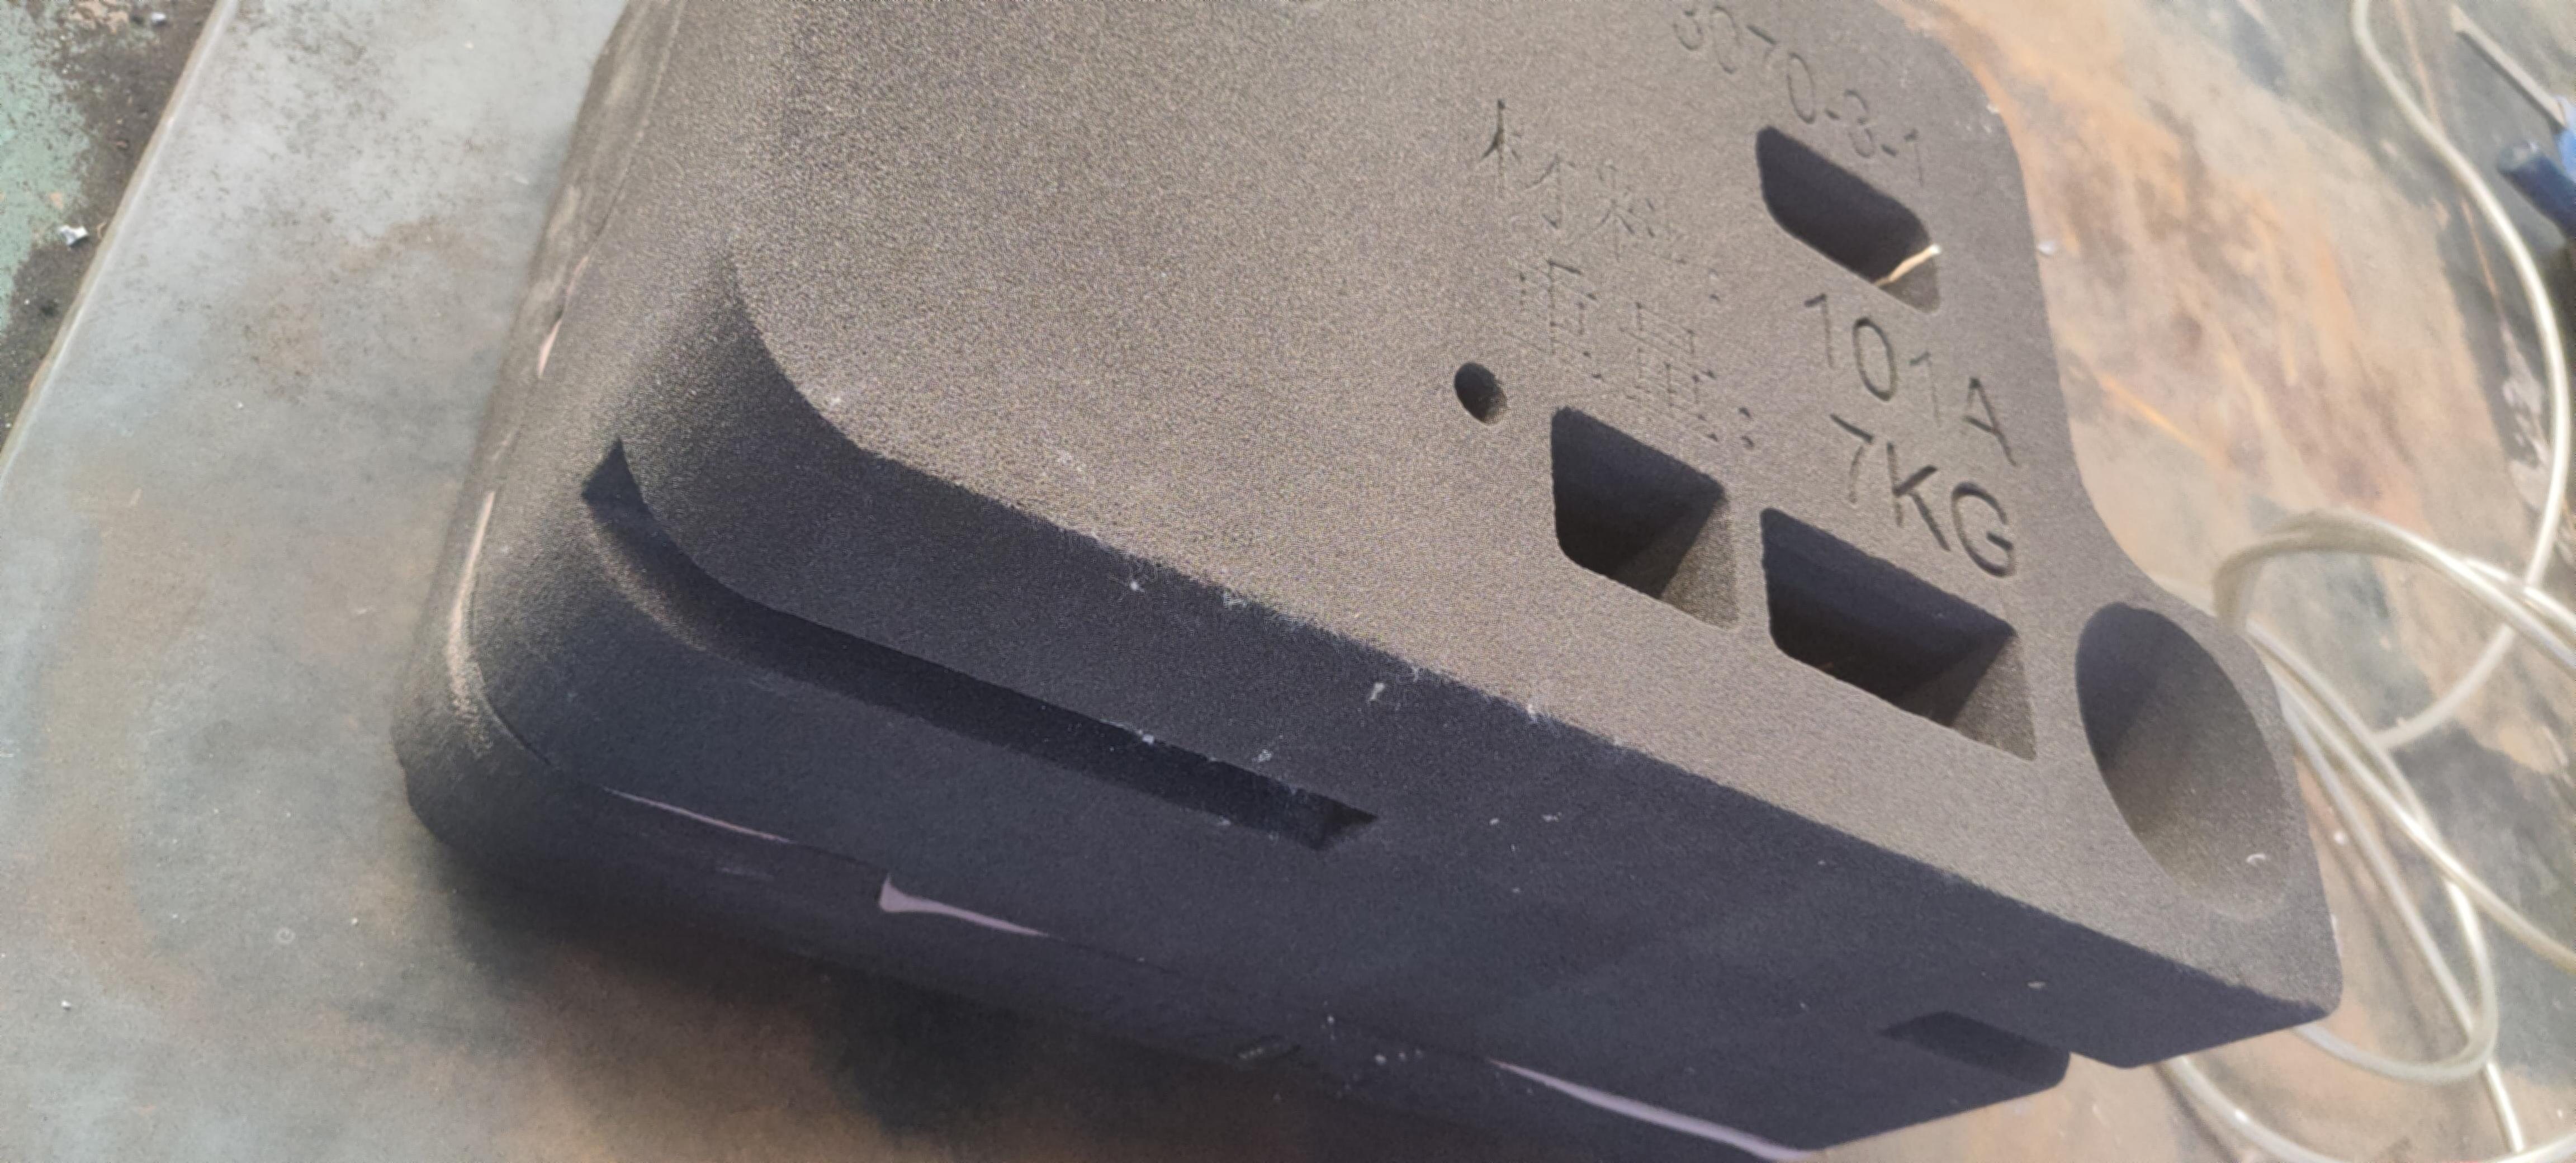pouring hole: (2075, 601, 2288, 920)
